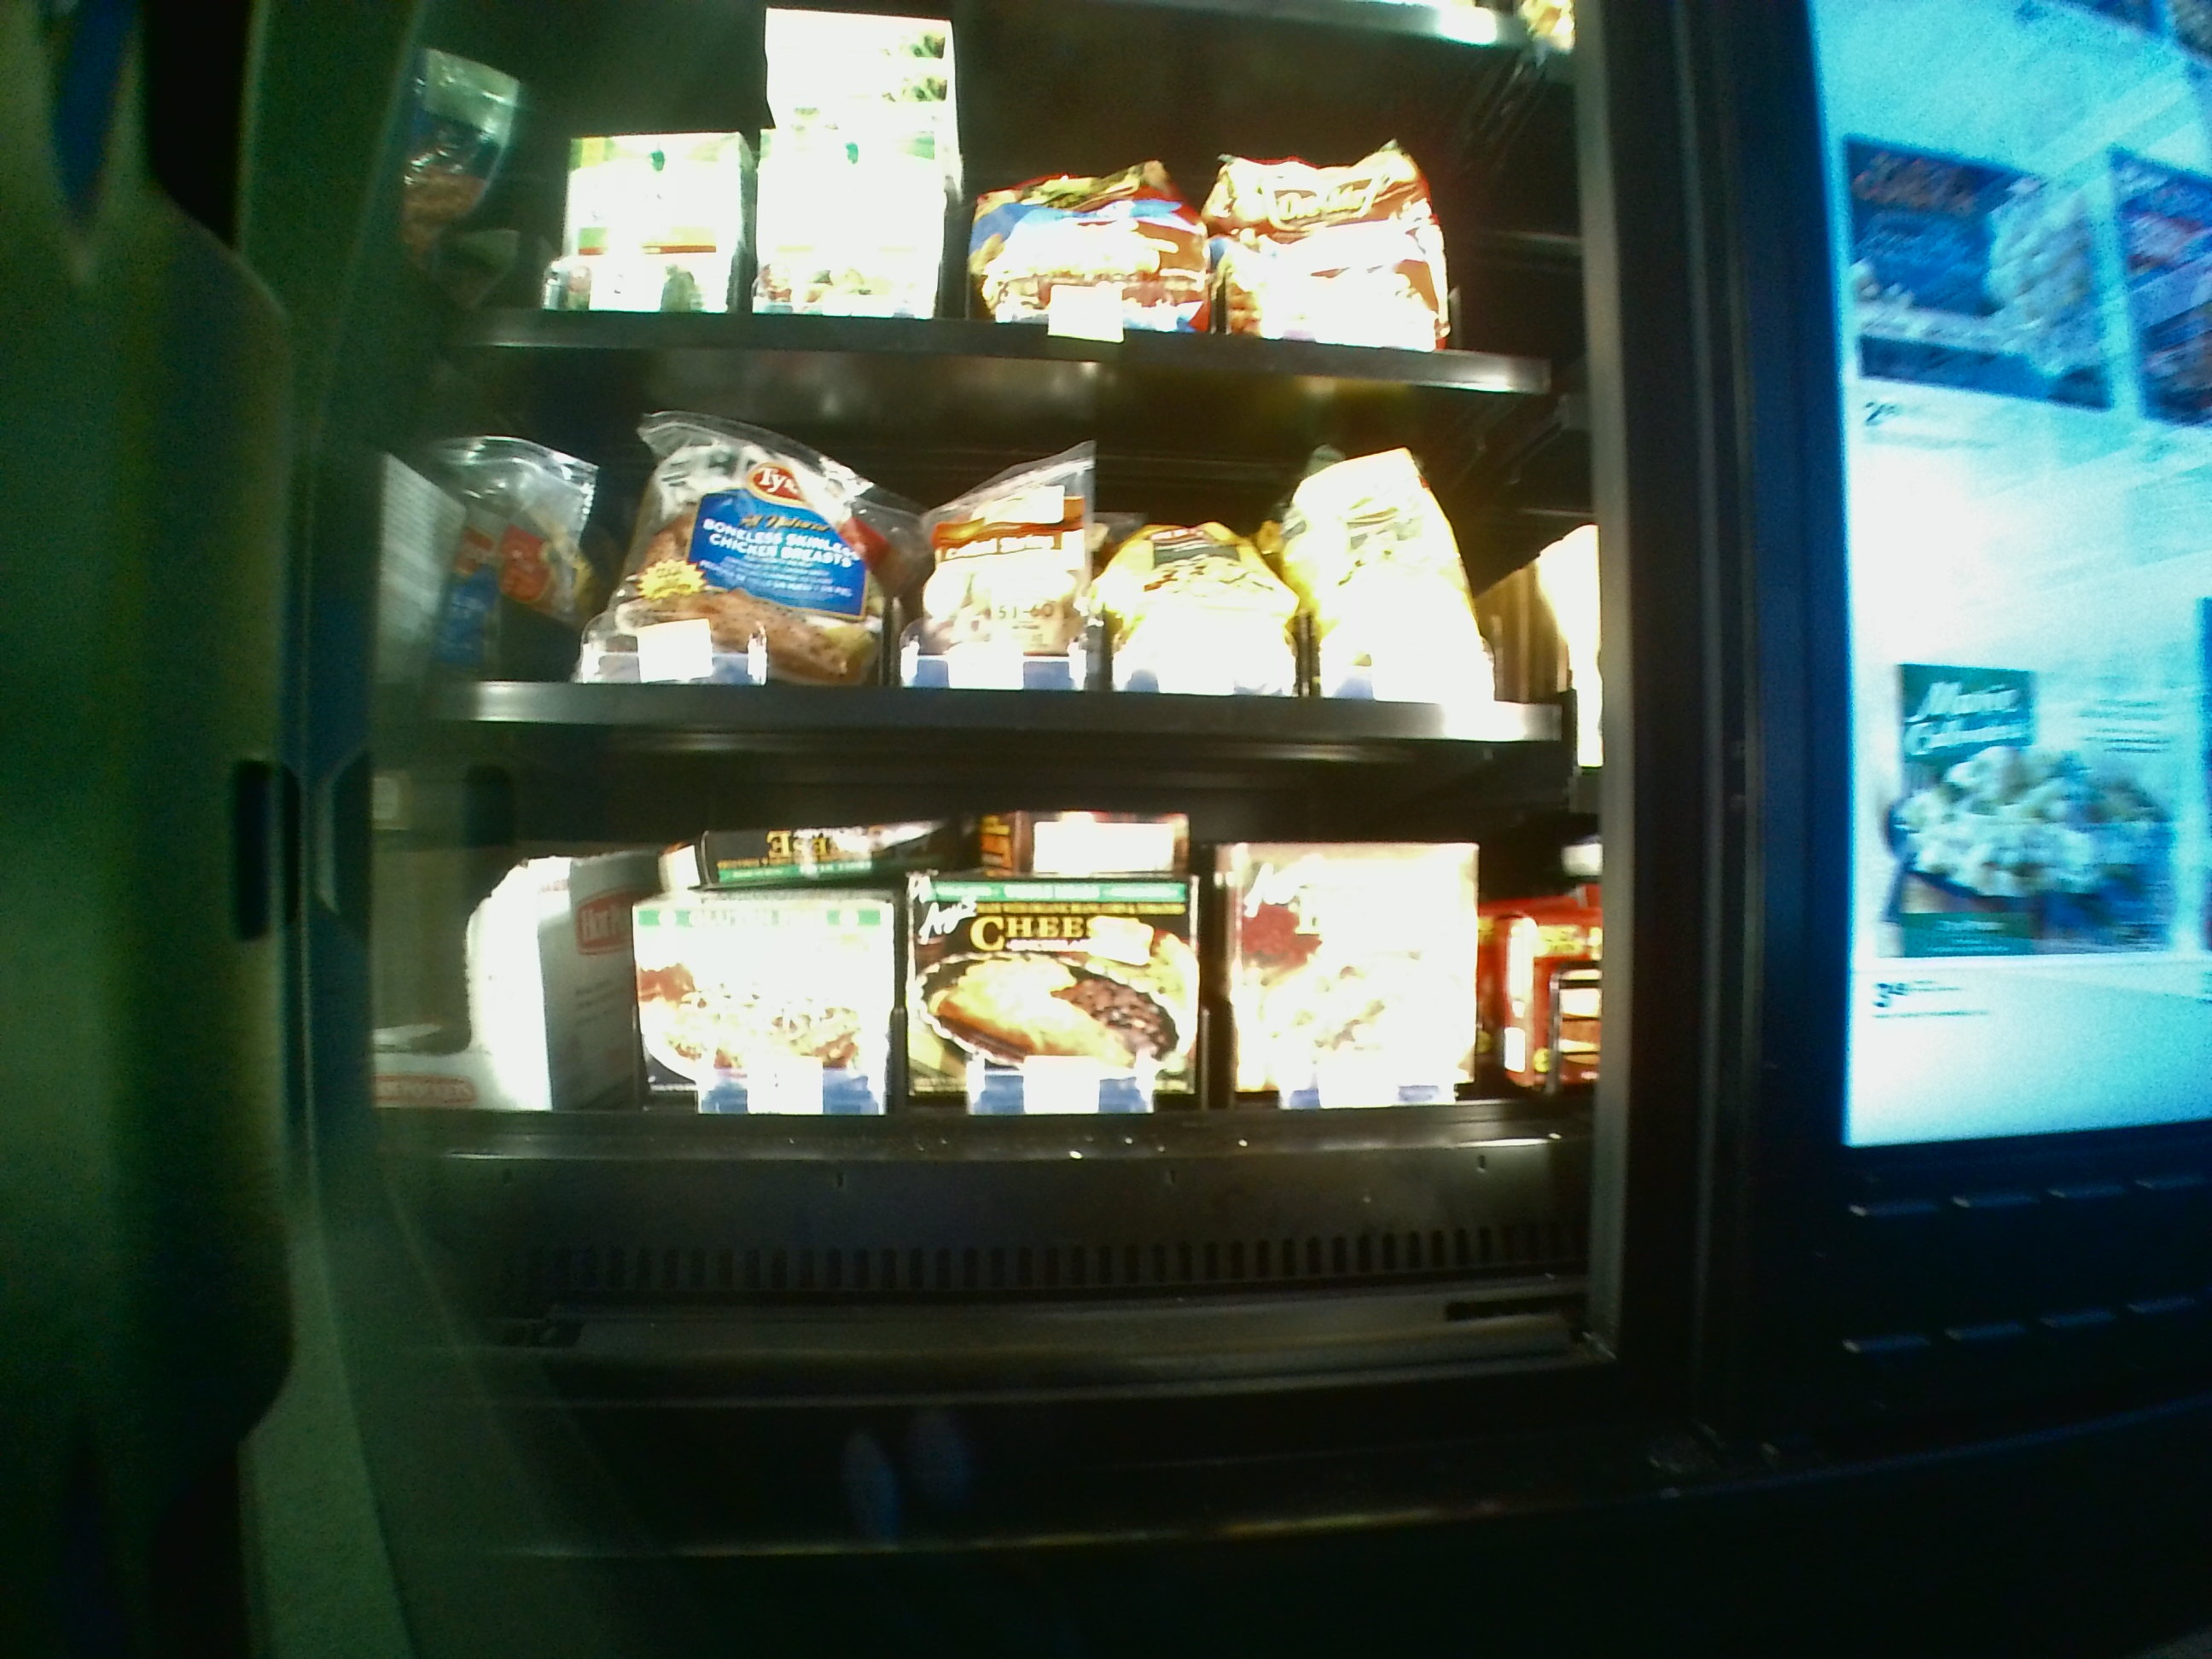shelf: (388, 762, 1583, 1344), (399, 347, 1576, 744)
